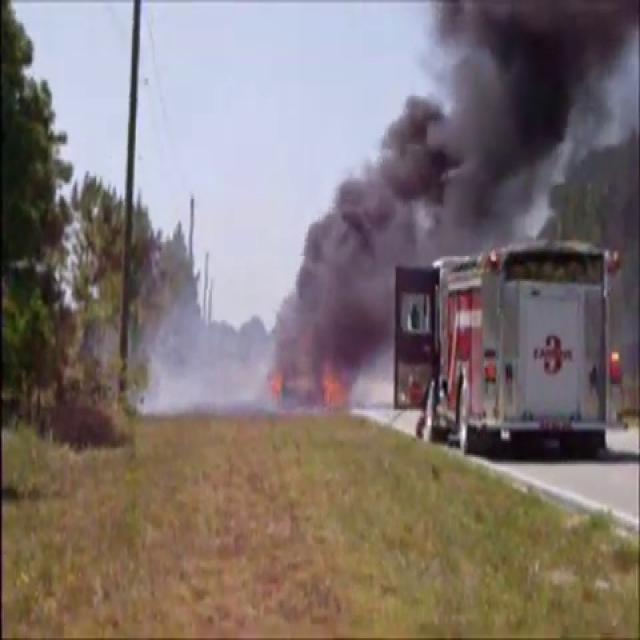Smoke: (293, 0, 640, 393), (128, 283, 281, 410)
